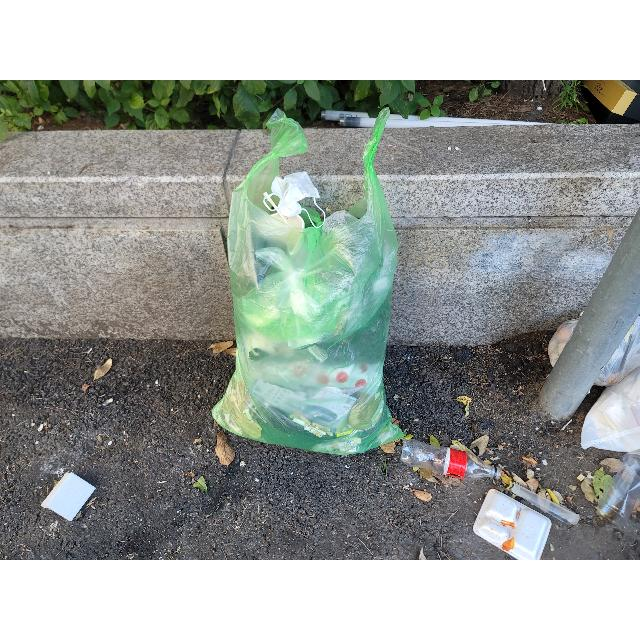general_trashbag: (212, 110, 402, 455)
other_trashbag: (581, 366, 640, 451), (595, 316, 640, 386), (548, 318, 580, 366)
